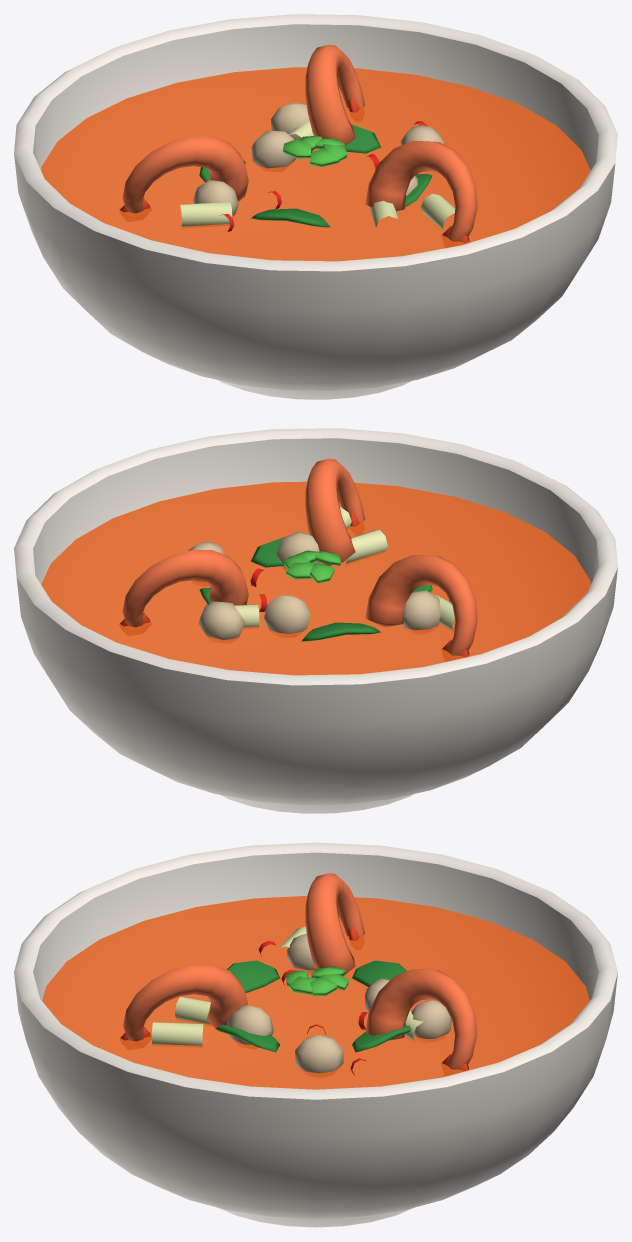
The picture shows the model from 3 angles, top to bottom: view 1: azimuth 30°, elevation 25°; view 2: azimuth 150°, elevation 25°; view 3: azimuth 270°, elevation 25°; orthographic projection.
Parts seen in each view (by area): view 1: bowl_outer, surface, bowl_inner, bowl_rim, shrimp (×3), mushroom (×4), lemongrass (×2), lime_leaf (×2); view 2: bowl_outer, surface, bowl_inner, bowl_rim, shrimp (×3), mushroom (×4), lime_leaf (×2), lemongrass; view 3: bowl_outer, surface, bowl_inner, bowl_rim, shrimp (×3), mushroom (×4), lime_leaf (×4), lemongrass (×2).
Part boxes in pixels (left/top/right/bottom): bowl_outer: left=14, top=154, right=615, bottom=399; surface: left=41, top=67, right=590, bottom=261; bowl_inner: left=33, top=24, right=598, bottom=170; bowl_rim: left=14, top=14, right=617, bottom=271; shrimp (×3): left=122, top=44, right=477, bottom=241; mushroom (×4): left=193, top=102, right=443, bottom=216; lemongrass (×2): left=179, top=193, right=455, bottom=231; lime_leaf (×2): left=251, top=124, right=381, bottom=227; bowl_outer: left=16, top=568, right=617, bottom=813; surface: left=41, top=481, right=590, bottom=675; bowl_inner: left=33, top=438, right=598, bottom=584; bowl_rim: left=14, top=428, right=617, bottom=685; shrimp (×3): left=122, top=458, right=477, bottom=655; mushroom (×4): left=198, top=531, right=440, bottom=639; lime_leaf (×2): left=250, top=536, right=380, bottom=641; lemongrass: left=346, top=530, right=387, bottom=563; bowl_outer: left=14, top=973, right=617, bottom=1227; surface: left=42, top=896, right=589, bottom=1089; bowl_inner: left=33, top=852, right=598, bottom=1000; bowl_rim: left=14, top=842, right=617, bottom=1099; shrimp (×3): left=123, top=873, right=477, bottom=1069; mushroom (×4): left=227, top=933, right=451, bottom=1073; lime_leaf (×4): left=215, top=960, right=411, bottom=1052; lemongrass (×2): left=152, top=997, right=210, bottom=1045.
Bounding box in the file's own units: 0.19 × 0.0818 × 0.19.
